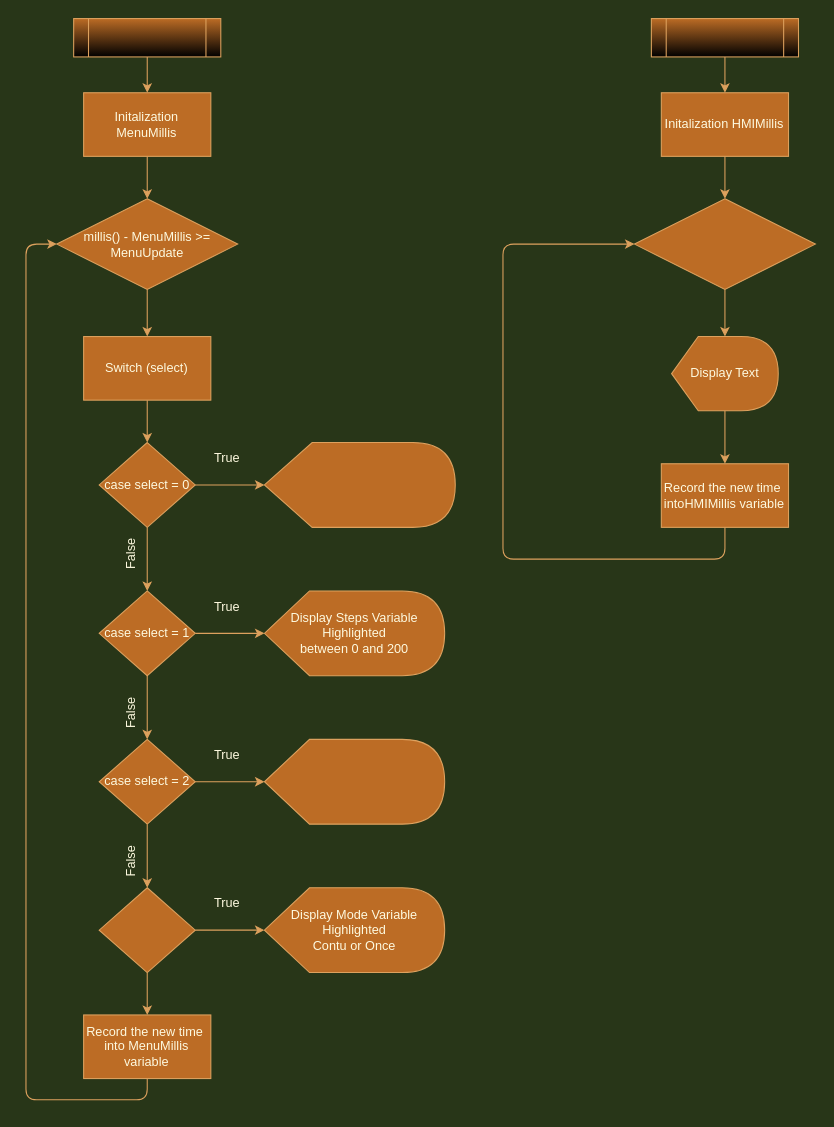
Image size: 834x1127. Some labels were removed from this diagram. Here are the shapes that lost their labels. From the top down, the centre of each, then its label:
At (x=147, y=37): "Settings".
At (x=724, y=37): "HMI".
At (x=724, y=243): "millis() - HMIMillis >= HmiUpdate".
At (x=359, y=484): "Display Direction Variable Highlighted Left or Right".
At (x=354, y=781): "Display Speed Variable Highlighted between 0% and 100%".
At (x=146, y=930): "case select = 3".
